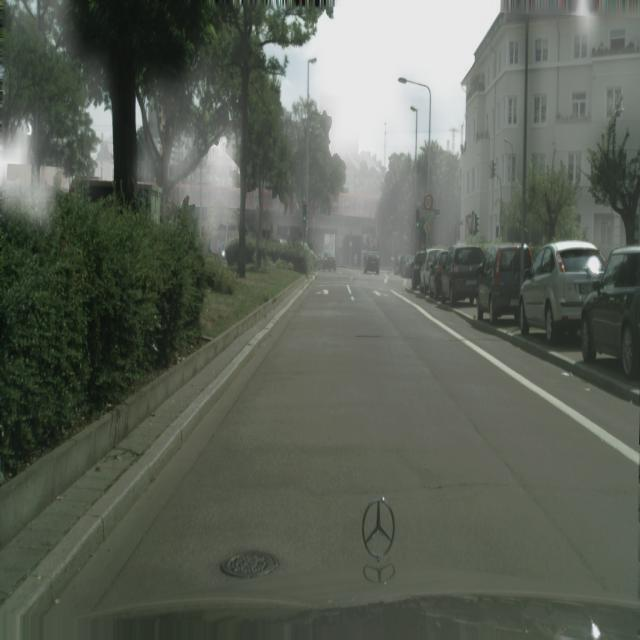person: (518, 239, 607, 344), (580, 245, 640, 379), (475, 242, 534, 326), (438, 244, 485, 306), (419, 248, 444, 297), (432, 249, 448, 300), (410, 250, 427, 292), (315, 248, 337, 272), (363, 252, 380, 274), (402, 254, 414, 278)
